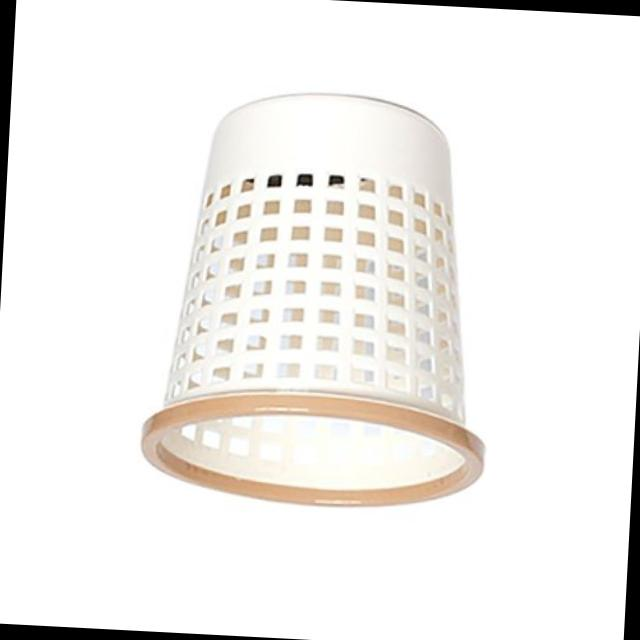dustbin: (133, 80, 512, 526)
